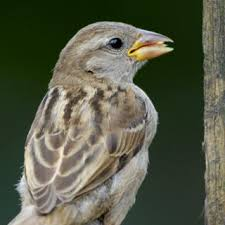hsparrow: (11, 16, 176, 225)
